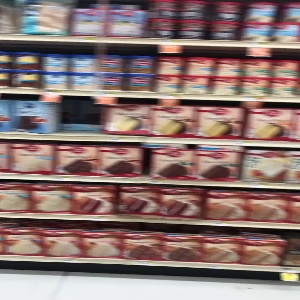void: (57, 90, 107, 137)
